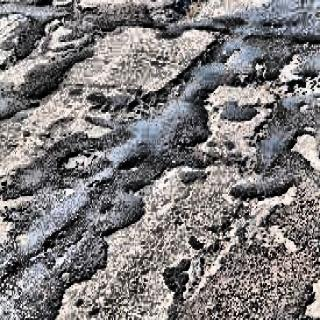pothole: (0, 2, 320, 318), (18, 6, 224, 185), (20, 158, 238, 305), (153, 102, 284, 280), (231, 32, 311, 234)
